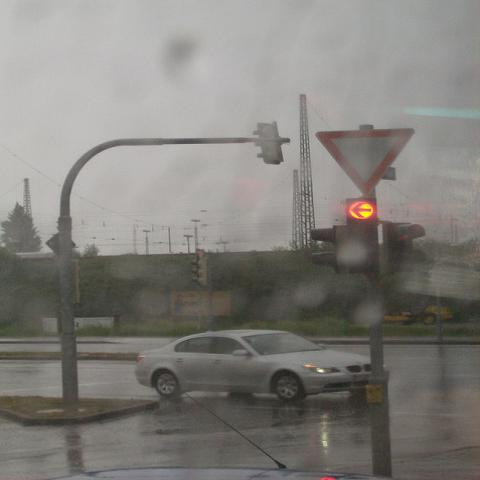car: (131, 326, 374, 406)
